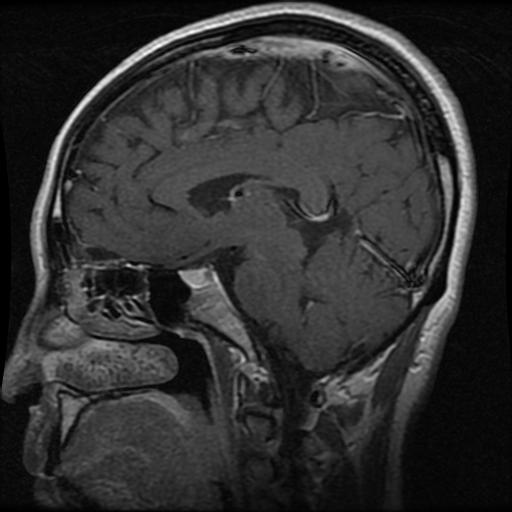Pituirity_tumour: (177, 268, 215, 287)
